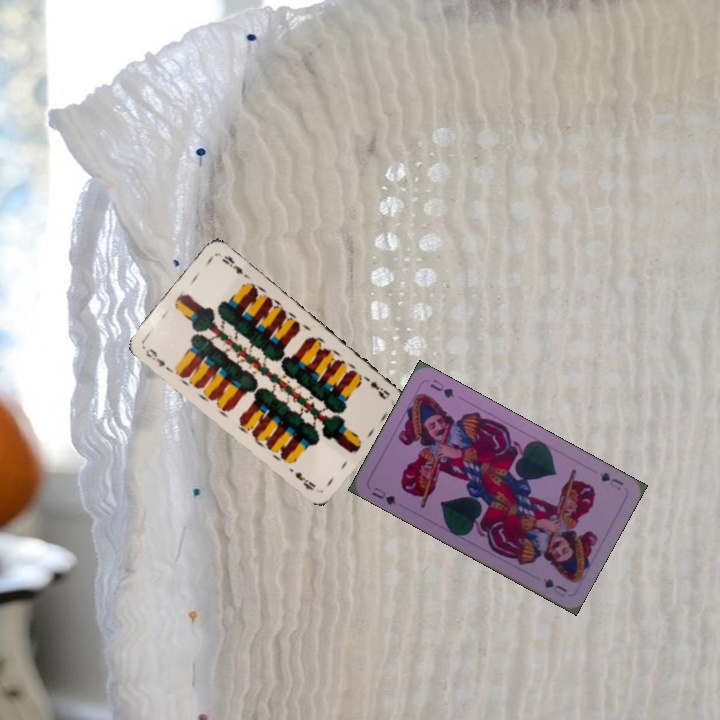E9: (358, 372, 393, 402), (141, 344, 168, 370)
GU: (368, 483, 399, 508), (596, 468, 626, 493)
